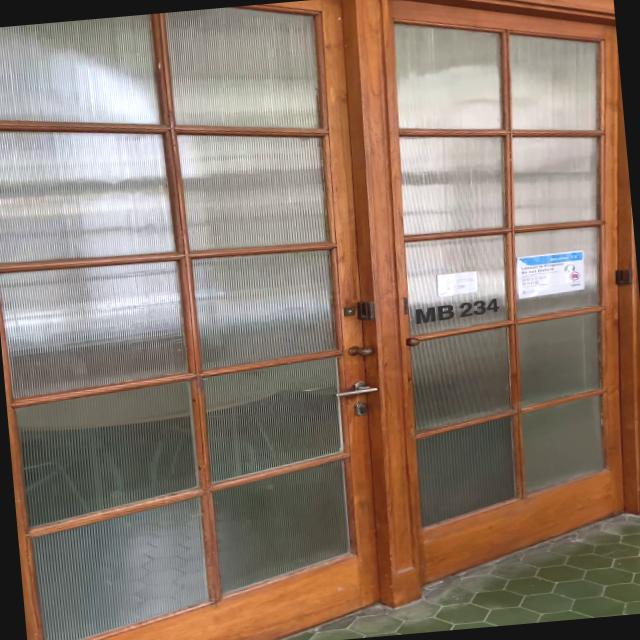room234Window: (409, 296, 504, 326)
